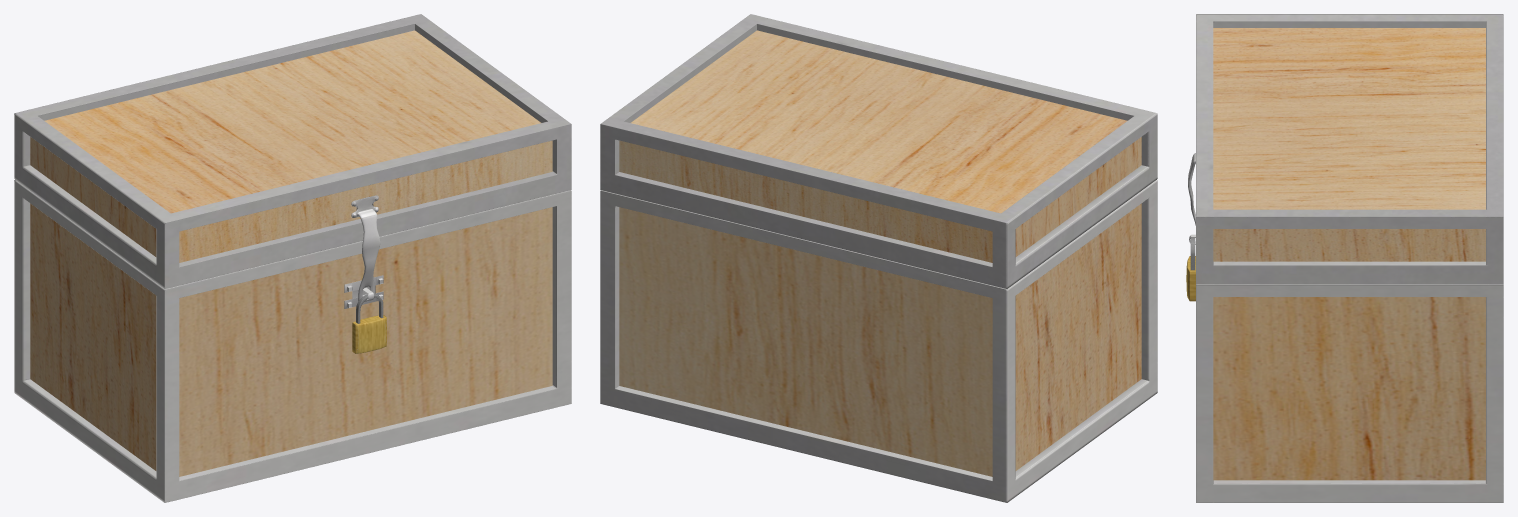
File: chest.obj
3 renders of one model, left to right at view 1: azimuth 30°, elevation 25°; view 2: azimuth 150°, elevation 25°; view 3: azimuth 270°, elevation 25°, orthographic. The views are drawn at different scales.
Visible parts, largest first — view 1: _pCube2, _pCube3, _pCube8, _pCube9, _pCube10, _pCube1, _pCube11; view 2: _pCube2, _pCube3, _pCube8, _pCube9; view 3: _pCube3, _pCube2, _pCube8, _pCube9, _pCube1.
Boxes of the visible parts, x1=… form: _pCube2: x1=30, y1=203, x2=552, y2=476; _pCube3: x1=30, y1=30, x2=552, y2=262; _pCube8: x1=14, y1=14, x2=571, y2=288; _pCube9: x1=14, y1=180, x2=571, y2=502; _pCube10: x1=351, y1=195, x2=380, y2=301; _pCube1: x1=352, y1=315, x2=386, y2=353; _pCube11: x1=344, y1=275, x2=383, y2=308; _pCube2: x1=619, y1=203, x2=1141, y2=476; _pCube3: x1=619, y1=30, x2=1141, y2=262; _pCube8: x1=600, y1=14, x2=1157, y2=288; _pCube9: x1=600, y1=180, x2=1157, y2=502; _pCube3: x1=1213, y1=28, x2=1485, y2=261; _pCube2: x1=1213, y1=297, x2=1485, y2=480; _pCube8: x1=1196, y1=14, x2=1503, y2=284; _pCube9: x1=1196, y1=284, x2=1503, y2=502; _pCube1: x1=1186, y1=256, x2=1195, y2=301.
Size of the model in its own units: 1.99 by 1.31 by 1.31.
8 materials, 8 textured.
